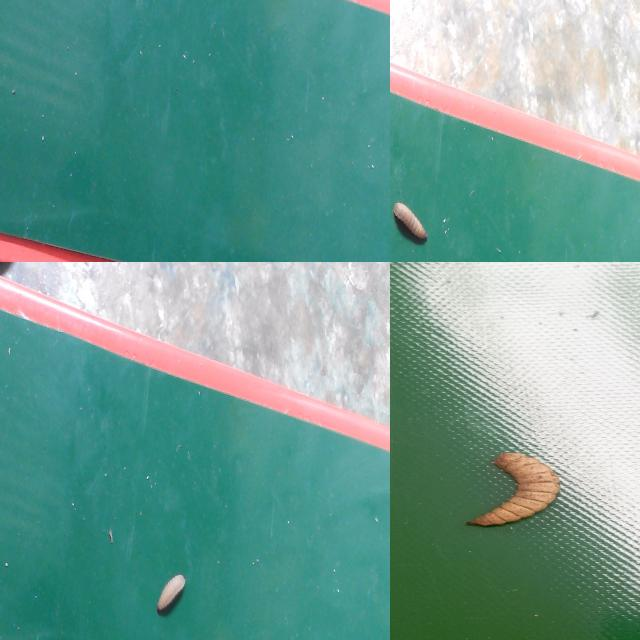Maggot: (467, 453, 560, 530), (392, 202, 428, 247), (155, 573, 188, 617)
